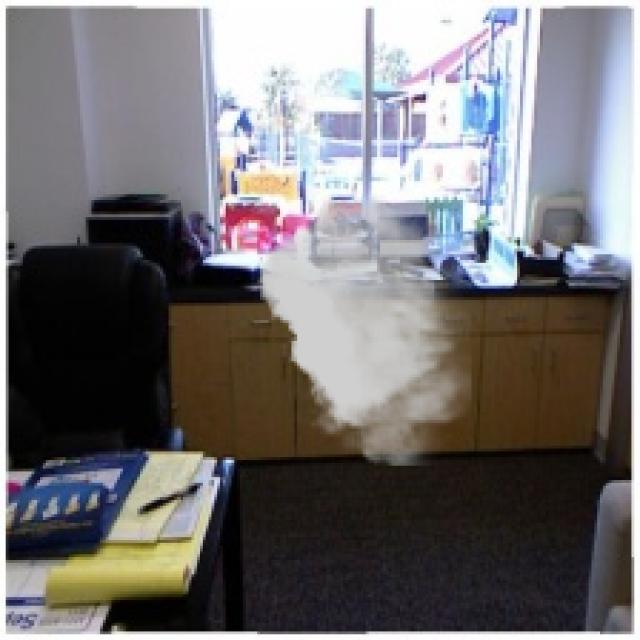smoke: (260, 194, 471, 466)
